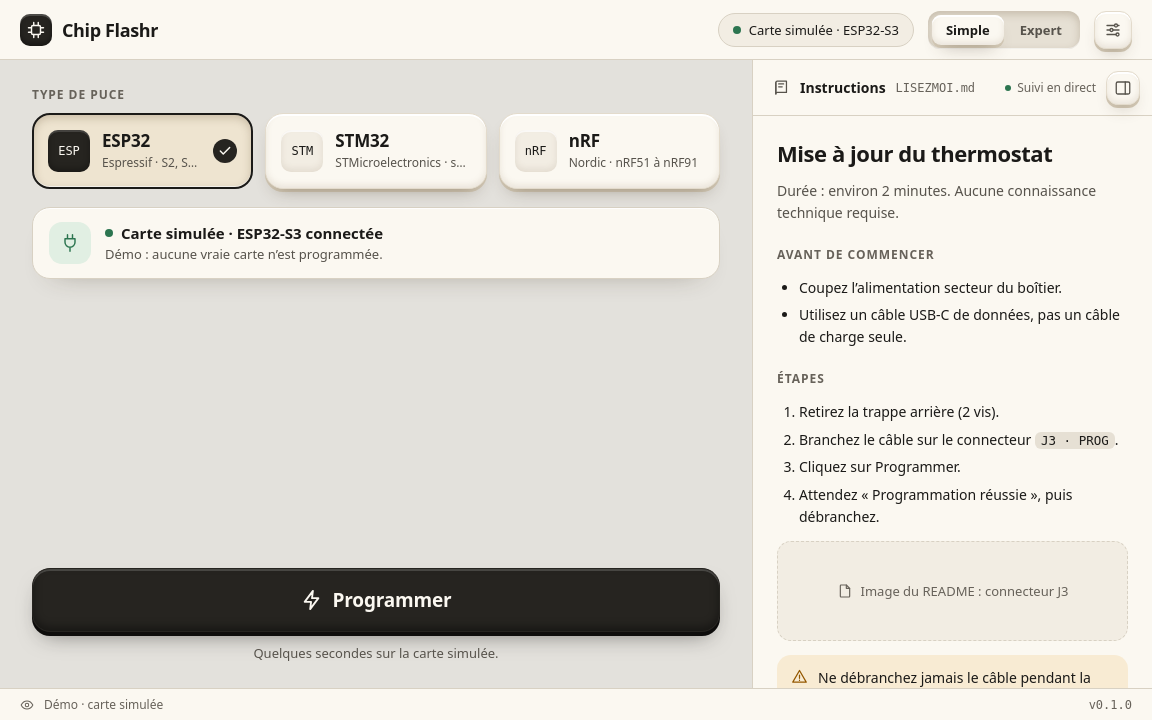
Scenario: App › hides the instructions panel while Réglages is open and restores it on Retour
Expected: the element named "Instructions" is shown, [752, 60, 1151, 688]
Click the button named "Réglages": x=1113, y=30 [1094, 10, 1132, 48]
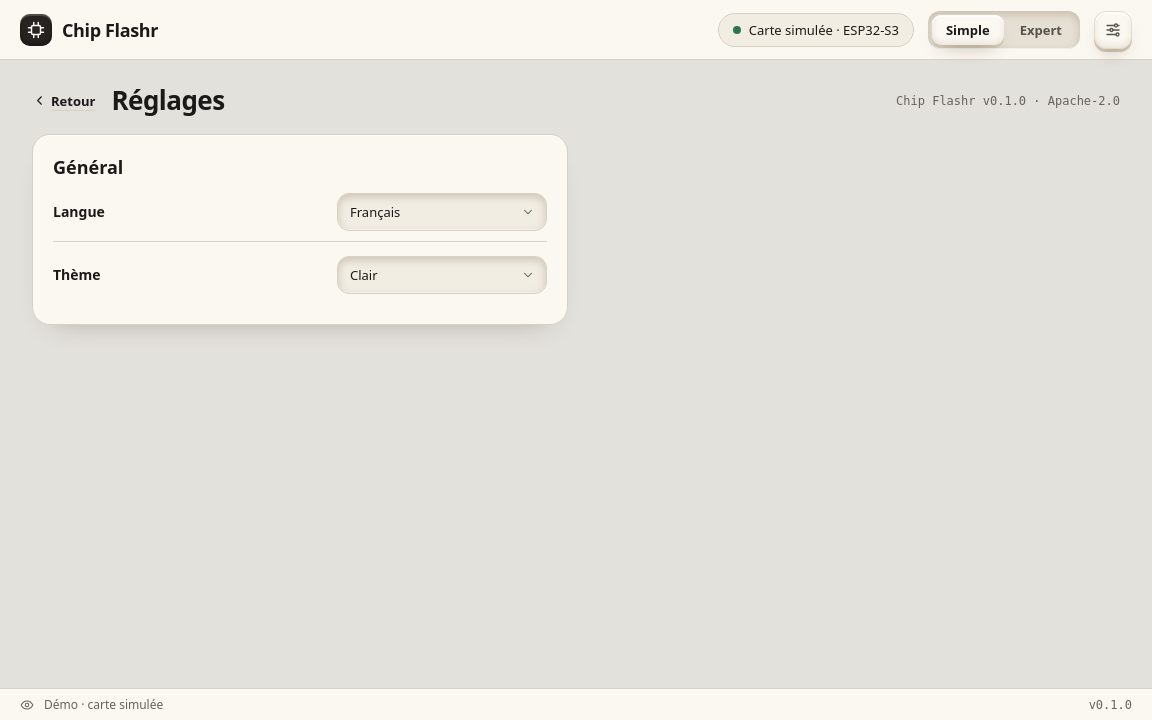
Click the button "Retour": x=64, y=101 [32, 92, 95, 110]
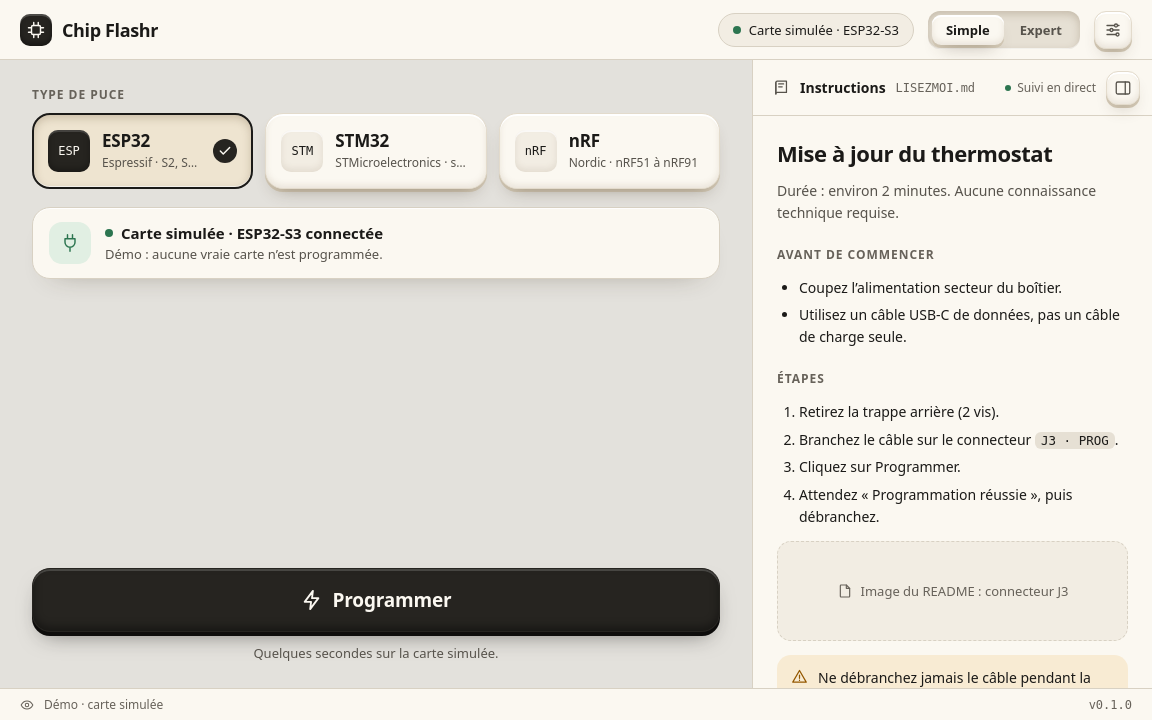
Expected: the element named "Instructions" is shown, [752, 60, 1151, 688]
